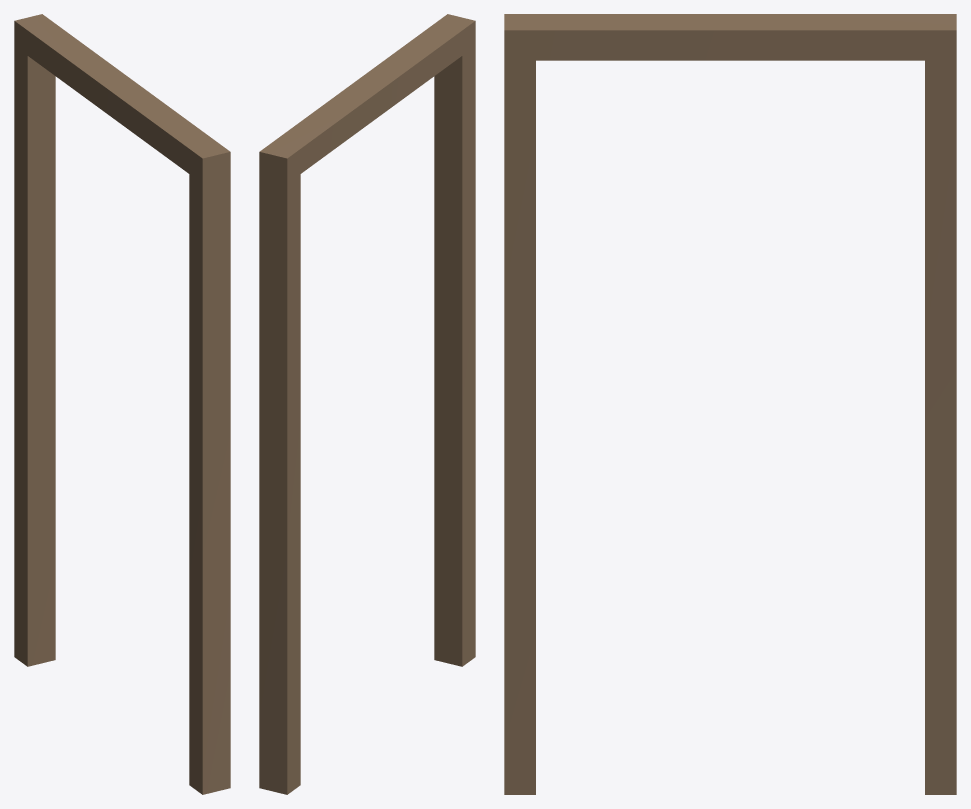
Rendered from Outer_Door.glb.
3 views of the same model, side by side, from view 1: azimuth 30°, elevation 25°; view 2: azimuth 150°, elevation 25°; view 3: azimuth 270°, elevation 25° (orthographic). The views are drawn at different scales.
Parts seen in each view (by area): view 1: Outer Door; view 2: Outer Door; view 3: Outer Door.
Boxes of the visible parts, left/top/right/bottom form: Outer Door: left=14, top=14, right=230, bottom=794; Outer Door: left=259, top=14, right=475, bottom=794; Outer Door: left=504, top=14, right=956, bottom=794.
Size of the model in its own units: 0.2007 by 4.38 by 2.35.
Materials: 1 (1 with a texture image).
